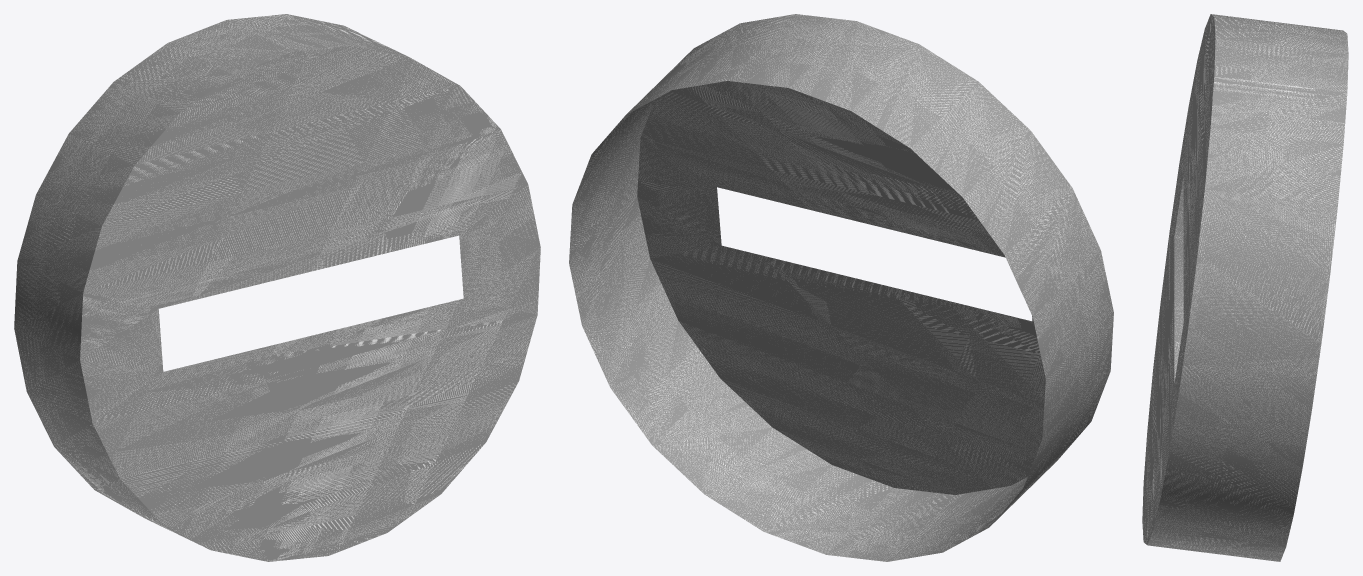
File: original-13.obj
3 views of the same model, side by side, from view 1: azimuth 30°, elevation 25°; view 2: azimuth 150°, elevation 25°; view 3: azimuth 270°, elevation 25° (orthographic). The views are drawn at different scales.
Parts seen in each view (by area): view 1: 3dw.b296fbfbbe5dccf09c12d6260da9ac2b/Model/mesh1/mesh1-geometry/; view 2: 3dw.b296fbfbbe5dccf09c12d6260da9ac2b/Model/mesh1/mesh1-geometry/; view 3: 3dw.b296fbfbbe5dccf09c12d6260da9ac2b/Model/mesh1/mesh1-geometry/.
Part boxes in pixels (x1,y1,x2,y2): 3dw.b296fbfbbe5dccf09c12d6260da9ac2b/Model/mesh1/mesh1-geometry/: [14, 14, 540, 561]; 3dw.b296fbfbbe5dccf09c12d6260da9ac2b/Model/mesh1/mesh1-geometry/: [569, 14, 1113, 561]; 3dw.b296fbfbbe5dccf09c12d6260da9ac2b/Model/mesh1/mesh1-geometry/: [1142, 14, 1348, 561].
Size of the model in its own units: 0.0713 by 0.0731 by 0.0274.
